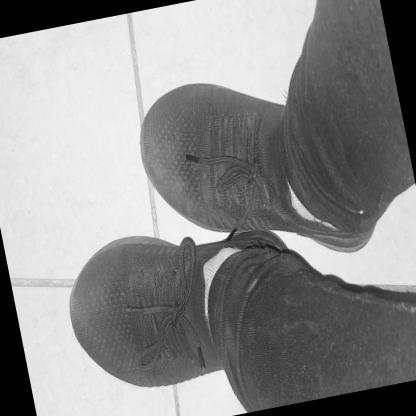ankle: (219, 246, 226, 255), (287, 186, 290, 194)
heel: (279, 243, 285, 251), (316, 218, 320, 225)
left_foot: (58, 206, 311, 401)
pinky: (165, 95, 175, 107), (101, 351, 110, 362)
right_foot: (130, 63, 323, 257)
toe: (157, 180, 169, 191), (80, 278, 89, 290)
